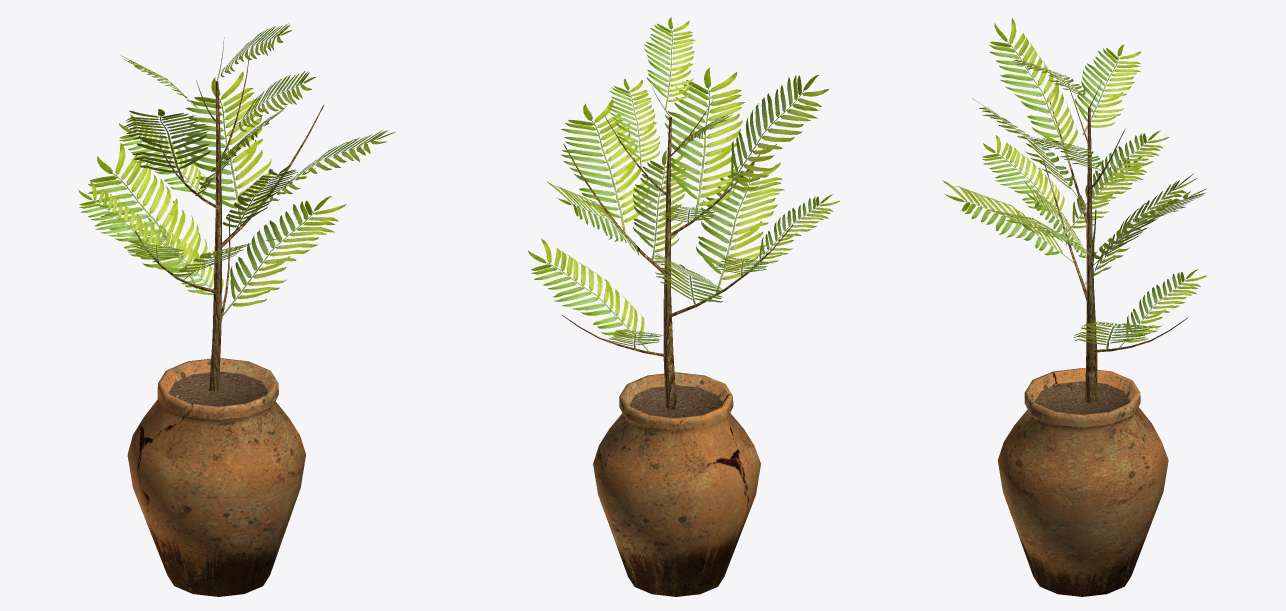
Rendered from potted plant 05.FBX.
The picture shows the model from 3 angles, left to right: view 1: azimuth 30°, elevation 25°; view 2: azimuth 150°, elevation 25°; view 3: azimuth 270°, elevation 25°; orthographic projection. The views are drawn at different scales.
Parts seen in each view (by area): view 1: Object001; view 2: Object001; view 3: Object001.
Boxes of the visible parts, left/top/right/bottom form: Object001: left=78, top=23, right=395, bottom=596; Object001: left=528, top=17, right=839, bottom=596; Object001: left=942, top=18, right=1206, bottom=596.
Size of the model in its own units: 148 by 206 by 126.
3 materials, 3 textured.
